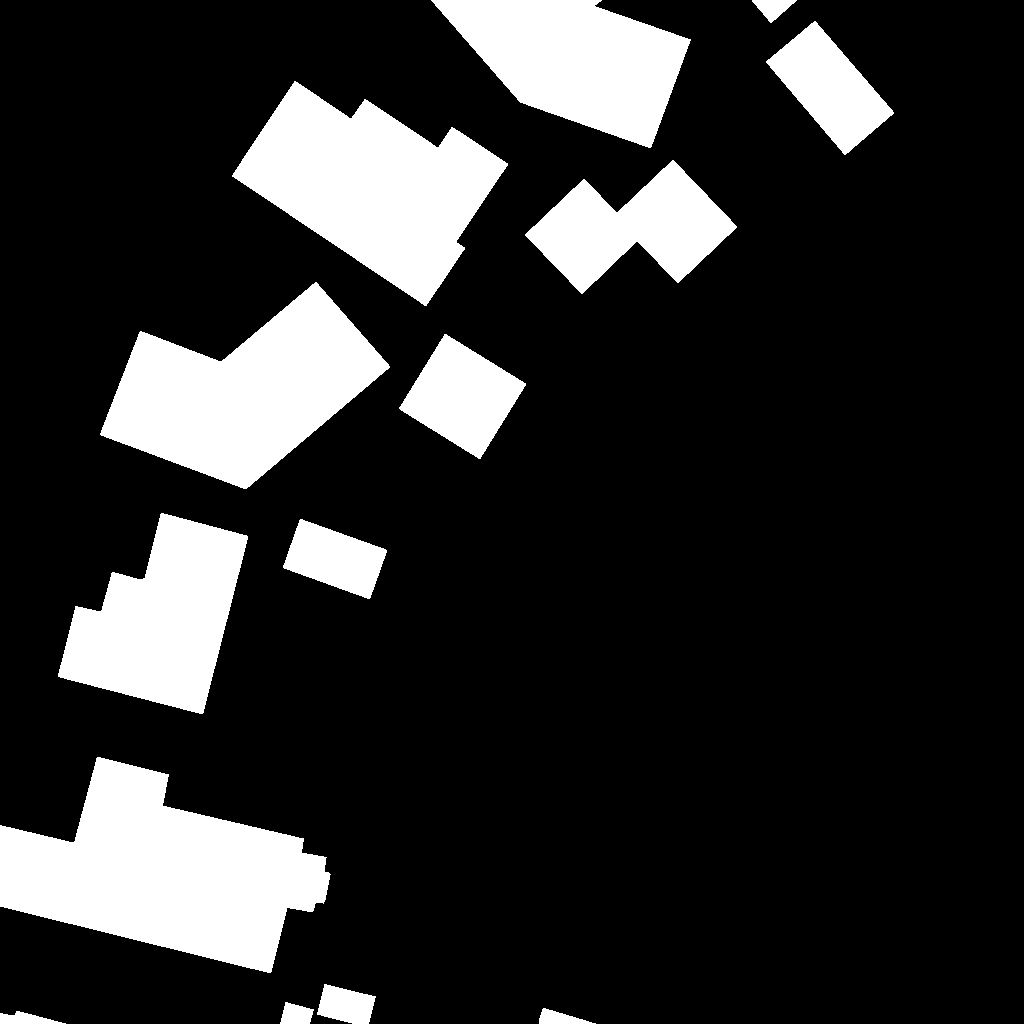building: (0, 757, 331, 974), (232, 81, 509, 307), (100, 282, 391, 490), (431, 0, 692, 149), (58, 513, 249, 715), (525, 160, 738, 295), (766, 21, 895, 156), (399, 334, 527, 460), (283, 519, 388, 600), (317, 984, 377, 1024), (751, 0, 798, 24), (539, 1008, 597, 1024), (0, 1011, 67, 1024), (280, 1002, 315, 1024)
